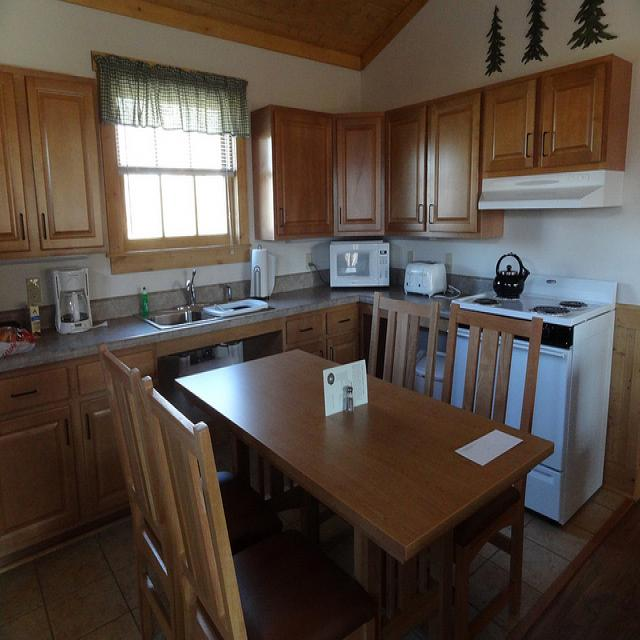chair: (441, 296, 543, 640), (138, 375, 234, 640), (96, 342, 174, 640), (220, 524, 376, 629), (367, 291, 439, 397), (217, 470, 283, 552)
dining table: (177, 340, 552, 623)
